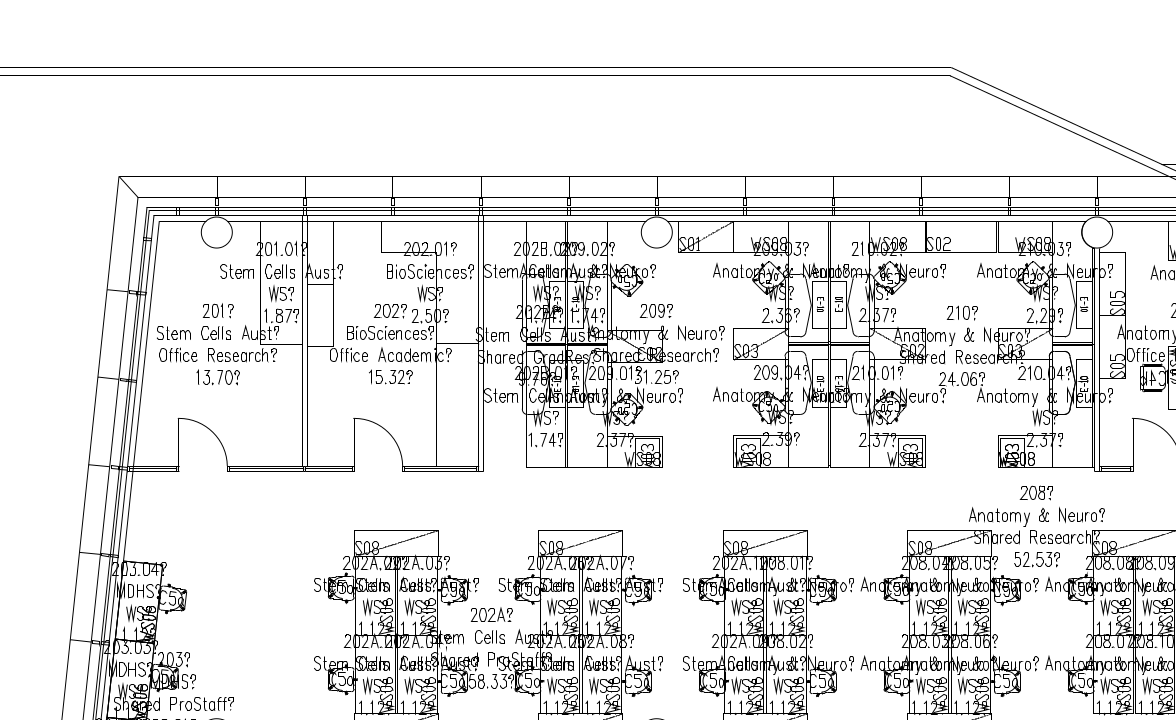door: (176, 411, 233, 477), (349, 413, 406, 479), (1119, 415, 1176, 481)
